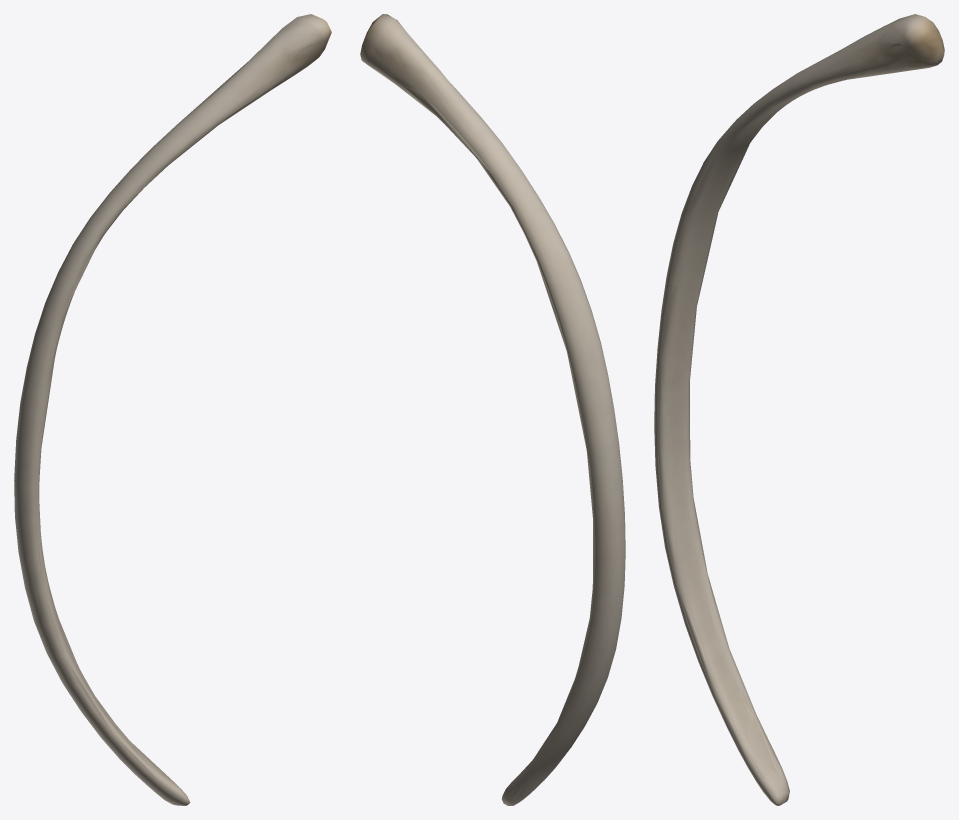
File: Rib R10.fbx
The picture shows the model from 3 angles, left to right: view 1: azimuth 30°, elevation 25°; view 2: azimuth 150°, elevation 25°; view 3: azimuth 330°, elevation 25°; orthographic projection. The views are drawn at different scales.
Visible parts, largest first — view 1: Rib R10, Rib R10 low, Rib R10 high; view 2: Rib R10, Rib R10 low, Rib R10 high; view 3: Rib R10, Rib R10 high, Rib R10 low.
Part boxes in pixels (left/top/right/bottom): Rib R10: left=14, top=14, right=331, bottom=805; Rib R10 low: left=14, top=18, right=331, bottom=798; Rib R10 high: left=16, top=36, right=318, bottom=801; Rib R10: left=360, top=14, right=625, bottom=805; Rib R10 low: left=362, top=14, right=623, bottom=803; Rib R10 high: left=366, top=38, right=624, bottom=798; Rib R10: left=654, top=14, right=944, bottom=805; Rib R10 high: left=656, top=24, right=939, bottom=799; Rib R10 low: left=654, top=15, right=941, bottom=801.
Bounding box in the file's own units: 7.42 × 18.82 × 2.17.
Materials: 1 (1 with a texture image).
